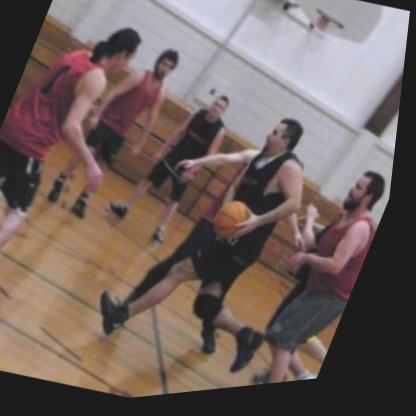basketball: (205, 192, 267, 256)
